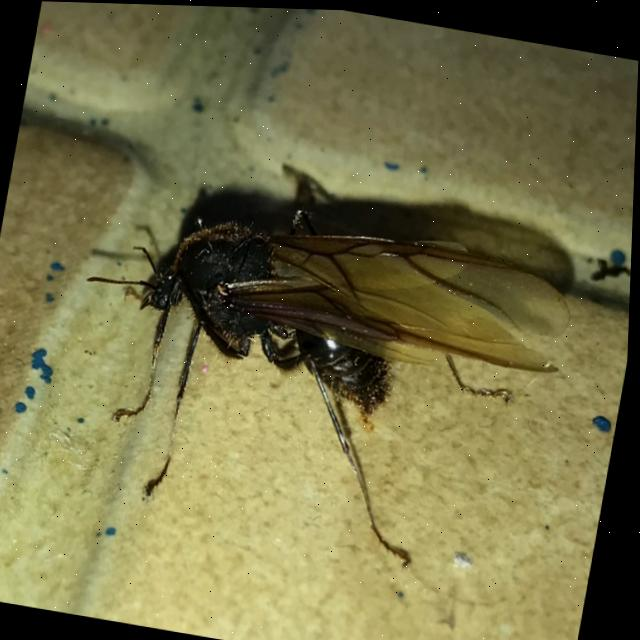Alive-Male-Alate: (47, 172, 587, 588)
